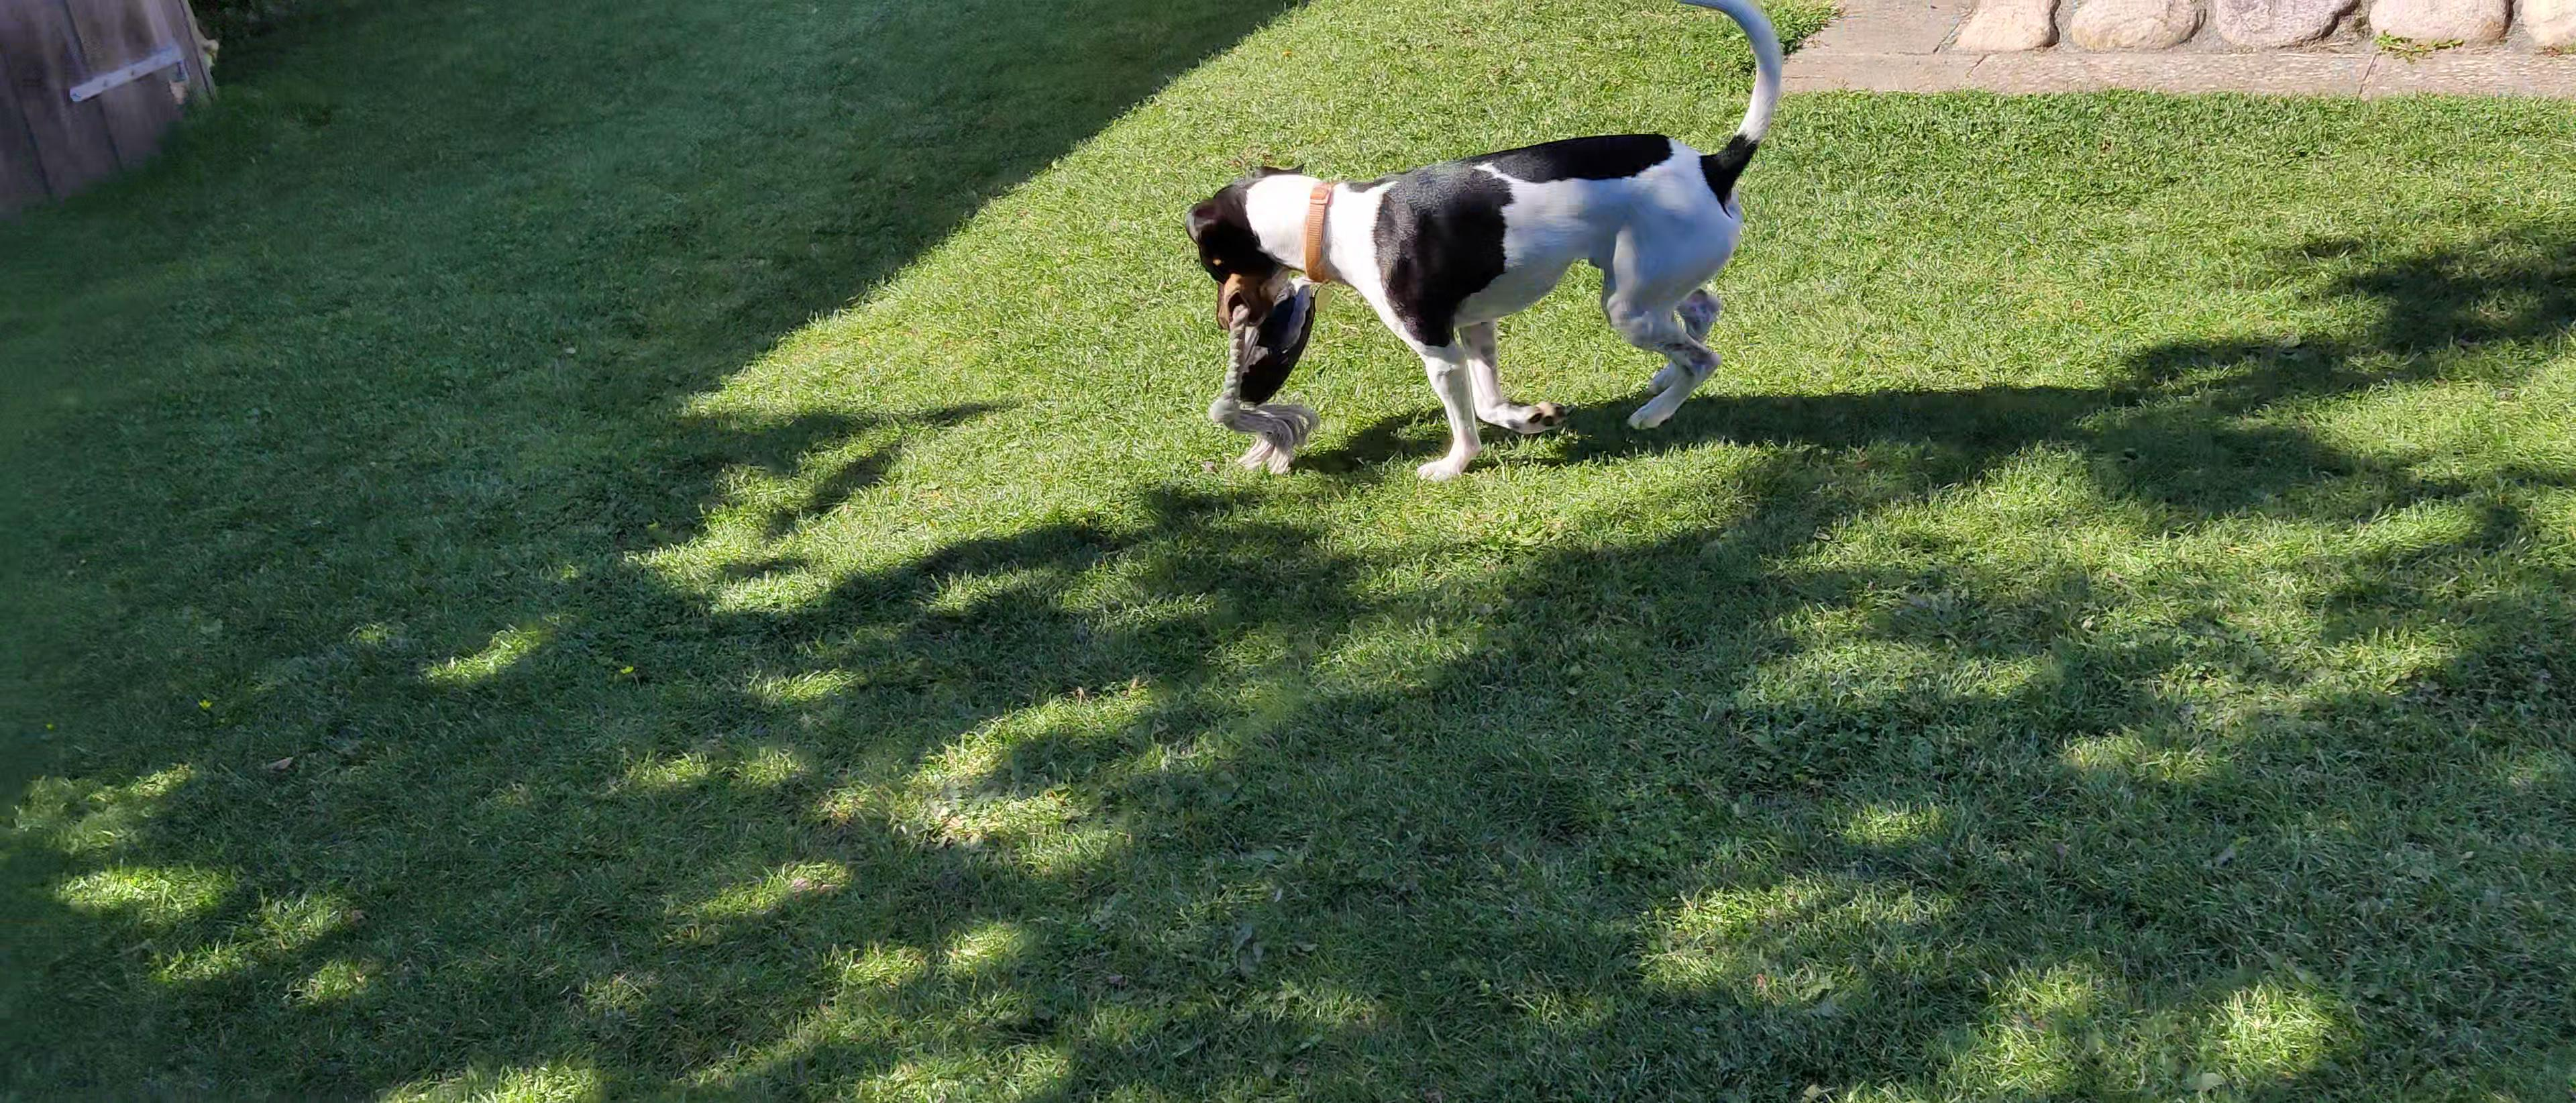Dog: (1178, 0, 1805, 488)
